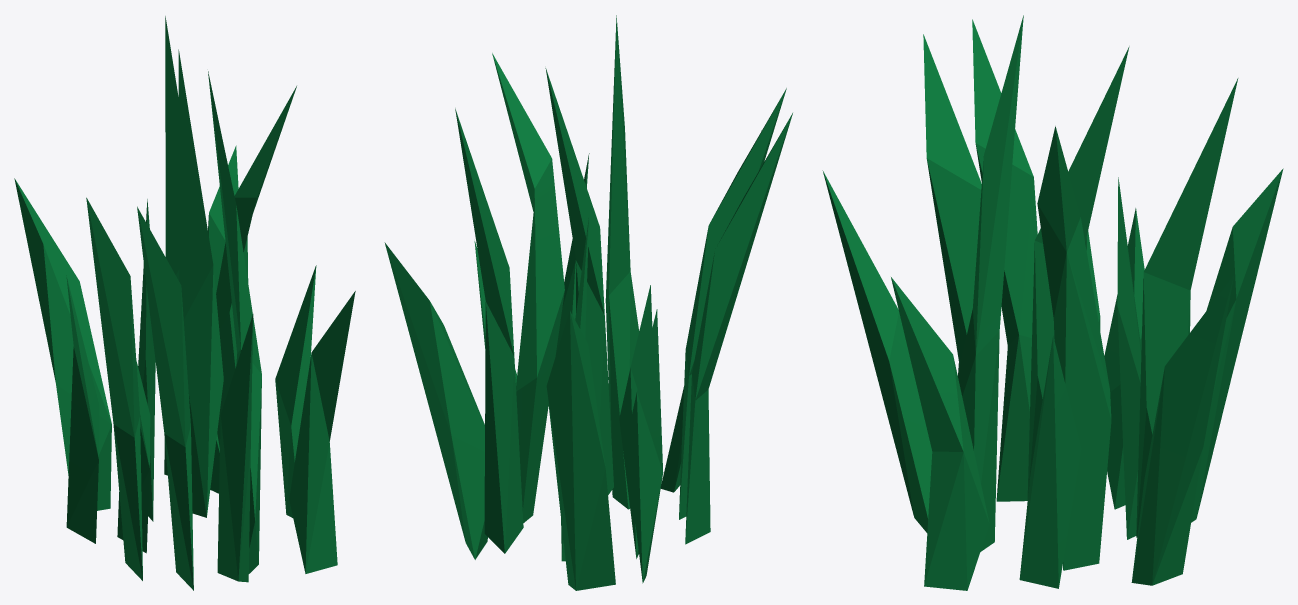
File: Grass_2.fbx
3 renders of one model, left to right at view 1: azimuth 30°, elevation 25°; view 2: azimuth 150°, elevation 25°; view 3: azimuth 270°, elevation 25°, orthographic. The views are drawn at different scales.
Visible parts, largest first — view 1: Grass_2; view 2: Grass_2; view 3: Grass_2.
Boxes of the visible parts, x1=… form: Grass_2: x1=14, y1=16, x2=355, y2=590; Grass_2: x1=384, y1=15, x2=792, y2=590; Grass_2: x1=822, y1=15, x2=1283, y2=590.
Bounding box in the file's own units: 0.3553 × 0.6183 × 0.4811.
